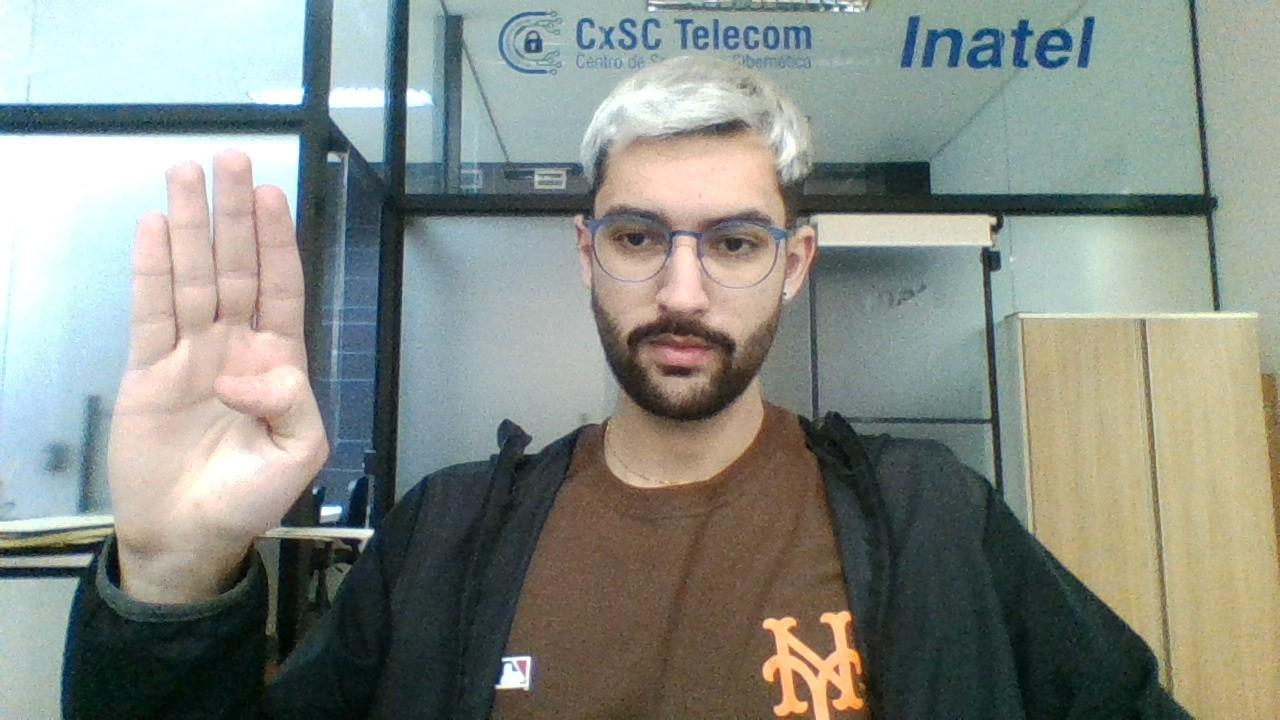B: (100, 152, 336, 580)
